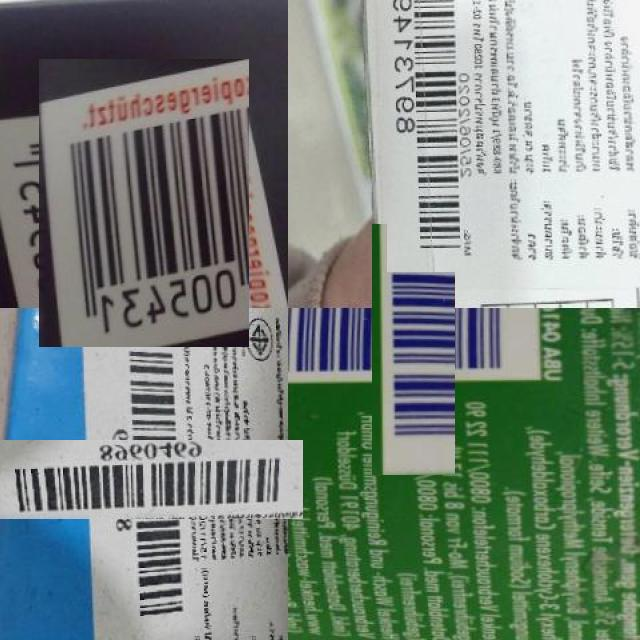Barcode: (19, 78, 269, 327), (54, 383, 247, 577), (330, 266, 498, 433), (387, 0, 465, 272)
